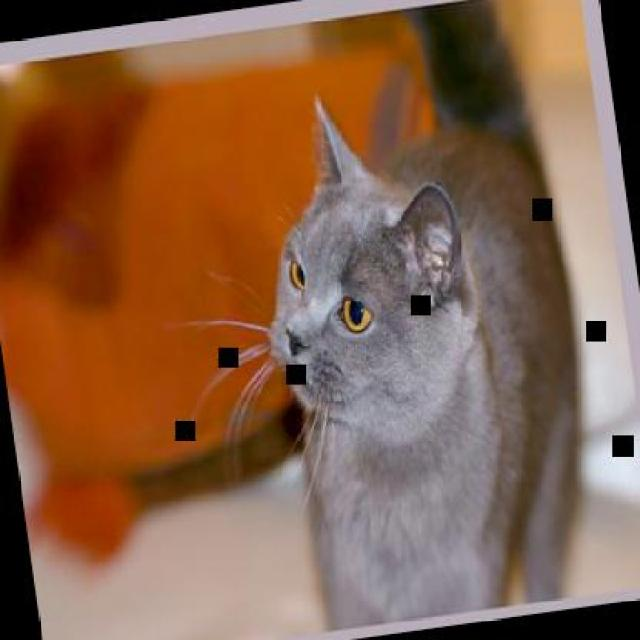cat: (227, 0, 616, 634)
